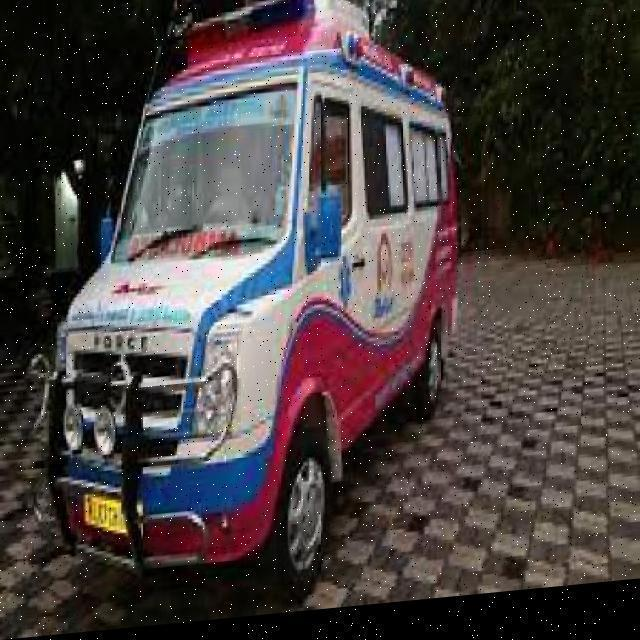Ambulance: (31, 0, 464, 630), (0, 245, 638, 638)
